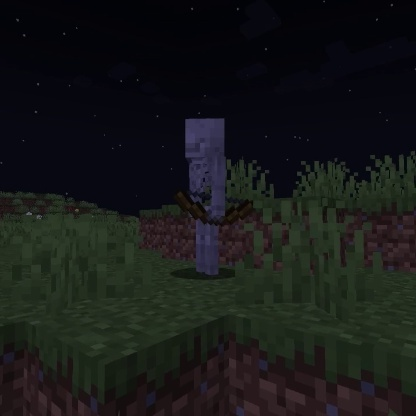skeleton: (169, 113, 257, 279)
